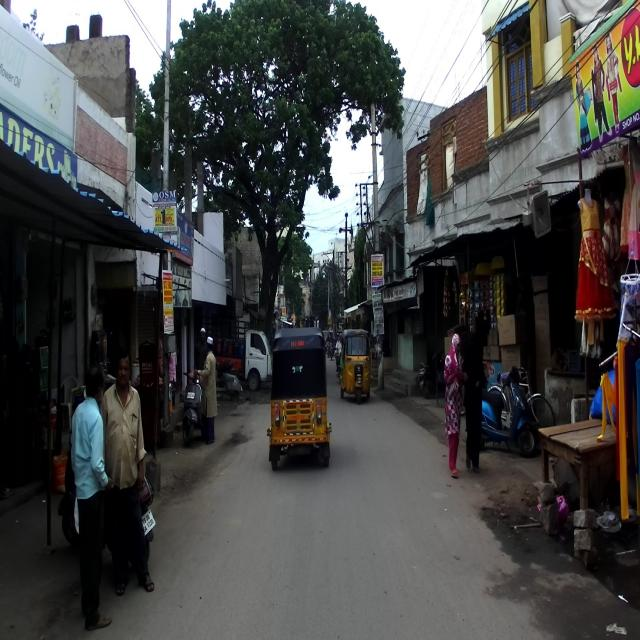autorickshaw: (266, 327, 332, 471)
scooter: (56, 392, 166, 568), (473, 364, 537, 458)
